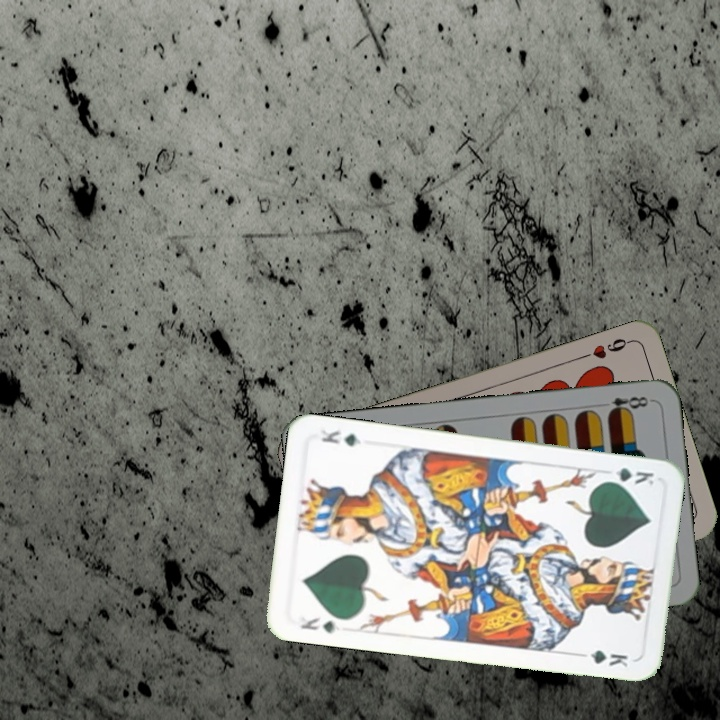E8: (604, 392, 654, 417)
GK: (599, 464, 656, 488), (297, 613, 342, 636)
H9: (577, 334, 634, 362)
